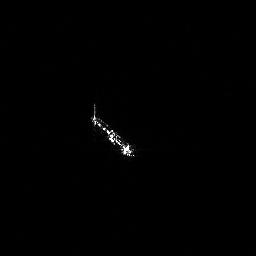ship: (92, 117, 134, 157)
